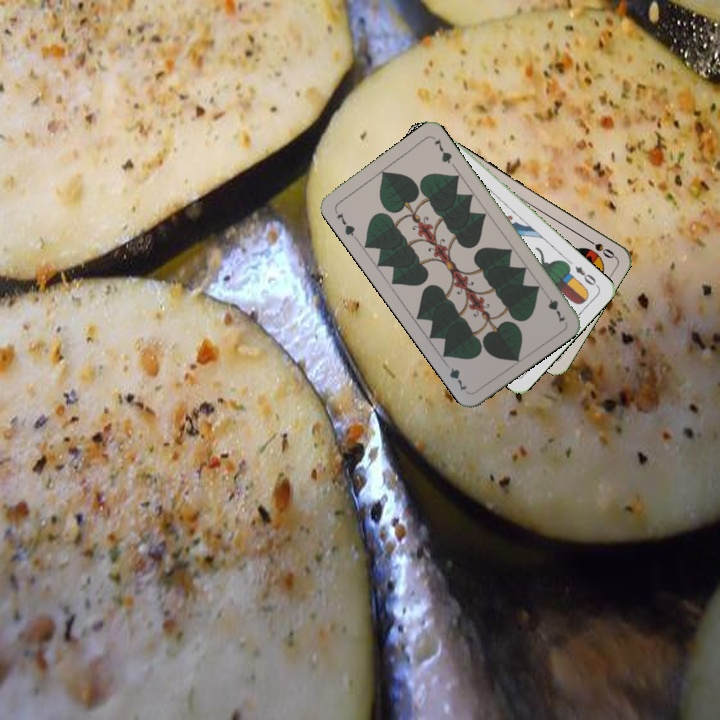EO: (571, 262, 601, 289)
G7: (540, 288, 568, 326), (331, 206, 359, 241)
SO: (581, 234, 618, 261)
